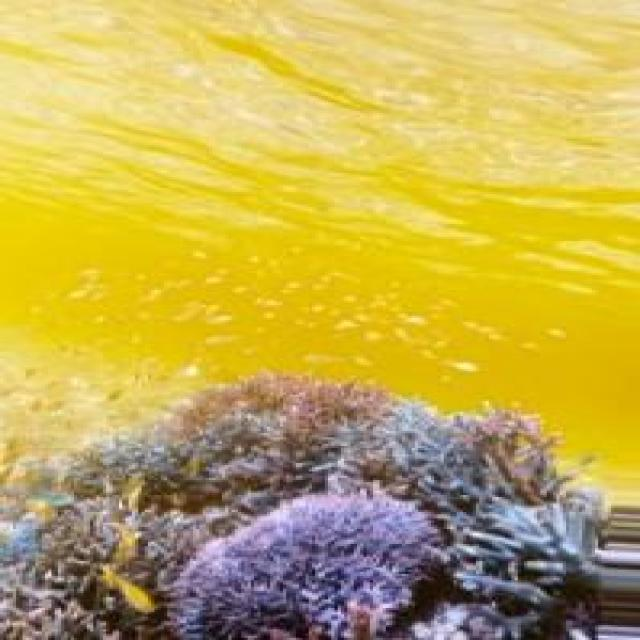Healthy: (24, 383, 606, 640)
